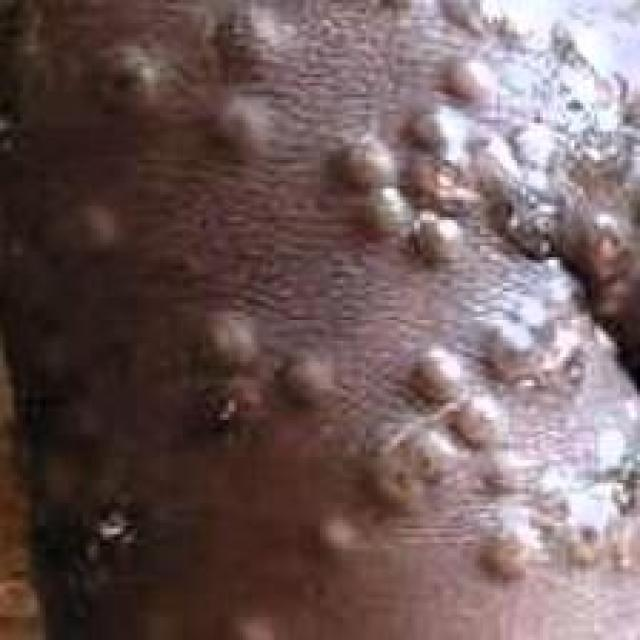monkeypox: (54, 0, 640, 627)
